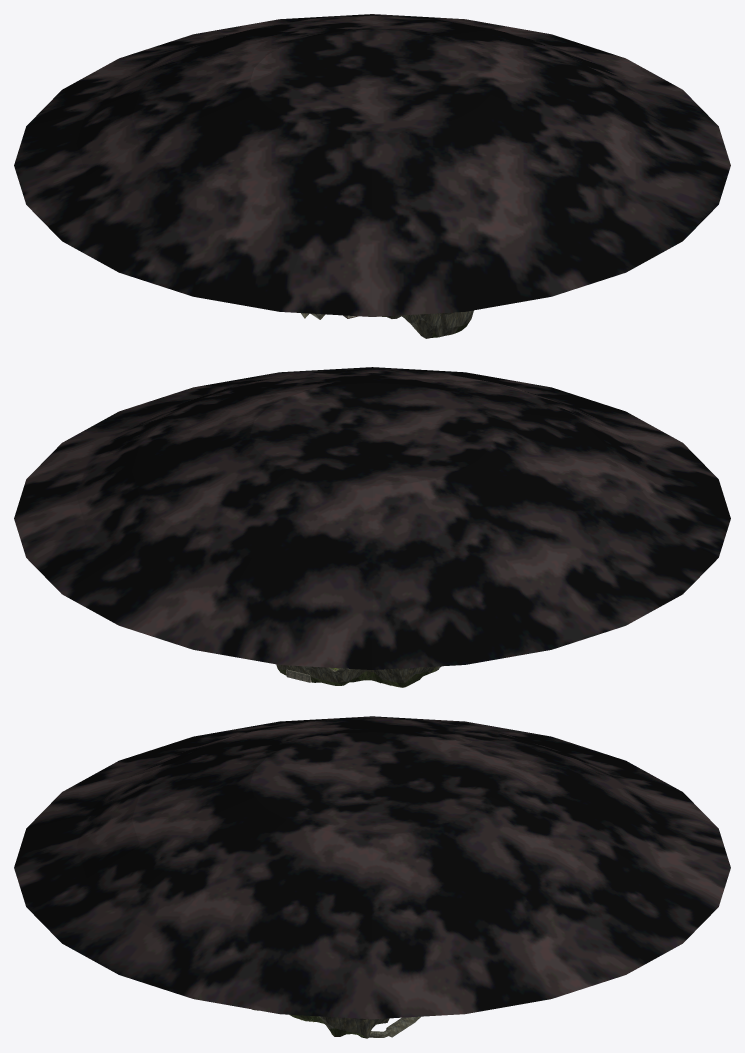
File: recovered_map_mp5.glb
3 views of the same model, one above another, from view 1: azimuth 30°, elevation 25°; view 2: azimuth 150°, elevation 25°; view 3: azimuth 270°, elevation 25° (orthographic).
Visible parts, largest first — view 1: S_sky01, W_a_rock02; view 2: S_sky01, W_a_rock02, W_ground01; view 3: S_sky01, W_a_rock02.
Boxes of the visible parts, box(x1,y1,x2,y2) form: S_sky01: box(14, 14, 730, 316); W_a_rock02: box(301, 310, 473, 338); S_sky01: box(14, 367, 730, 669); W_a_rock02: box(276, 664, 441, 682); W_ground01: box(278, 666, 437, 687); S_sky01: box(14, 716, 730, 1019); W_a_rock02: box(311, 1016, 420, 1037).
Size of what is drawn, in the model's own units: 491 by 164 by 491.
Materials: 25 (25 with a texture image).
